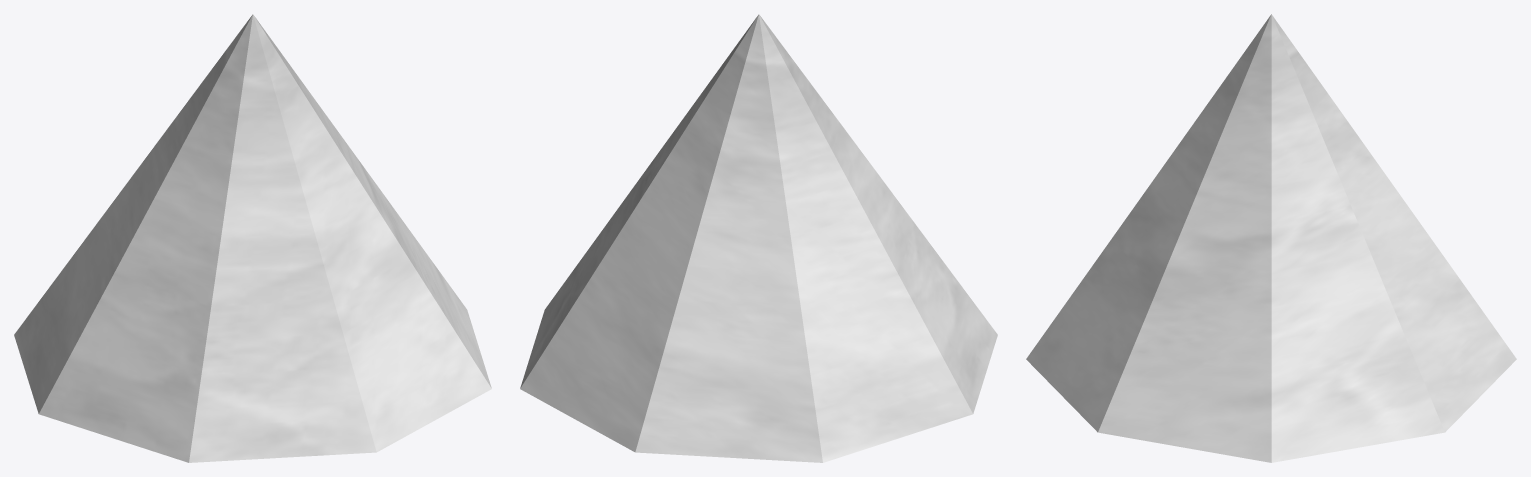
File: LOBROOF2.fbx
The picture shows the model from 3 angles, left to right: view 1: azimuth 30°, elevation 25°; view 2: azimuth 150°, elevation 25°; view 3: azimuth 270°, elevation 25°; orthographic projection.
Visible parts, largest first — view 1: pCone9; view 2: pCone9; view 3: pCone9.
Boxes of the visible parts, <box> form: pCone9: <box>14,14,491,462</box>; pCone9: <box>520,14,997,462</box>; pCone9: <box>1026,14,1516,462</box>.
Size of the model in its own units: 49.77 by 38.62 by 49.77.
1 material, 1 textured.
